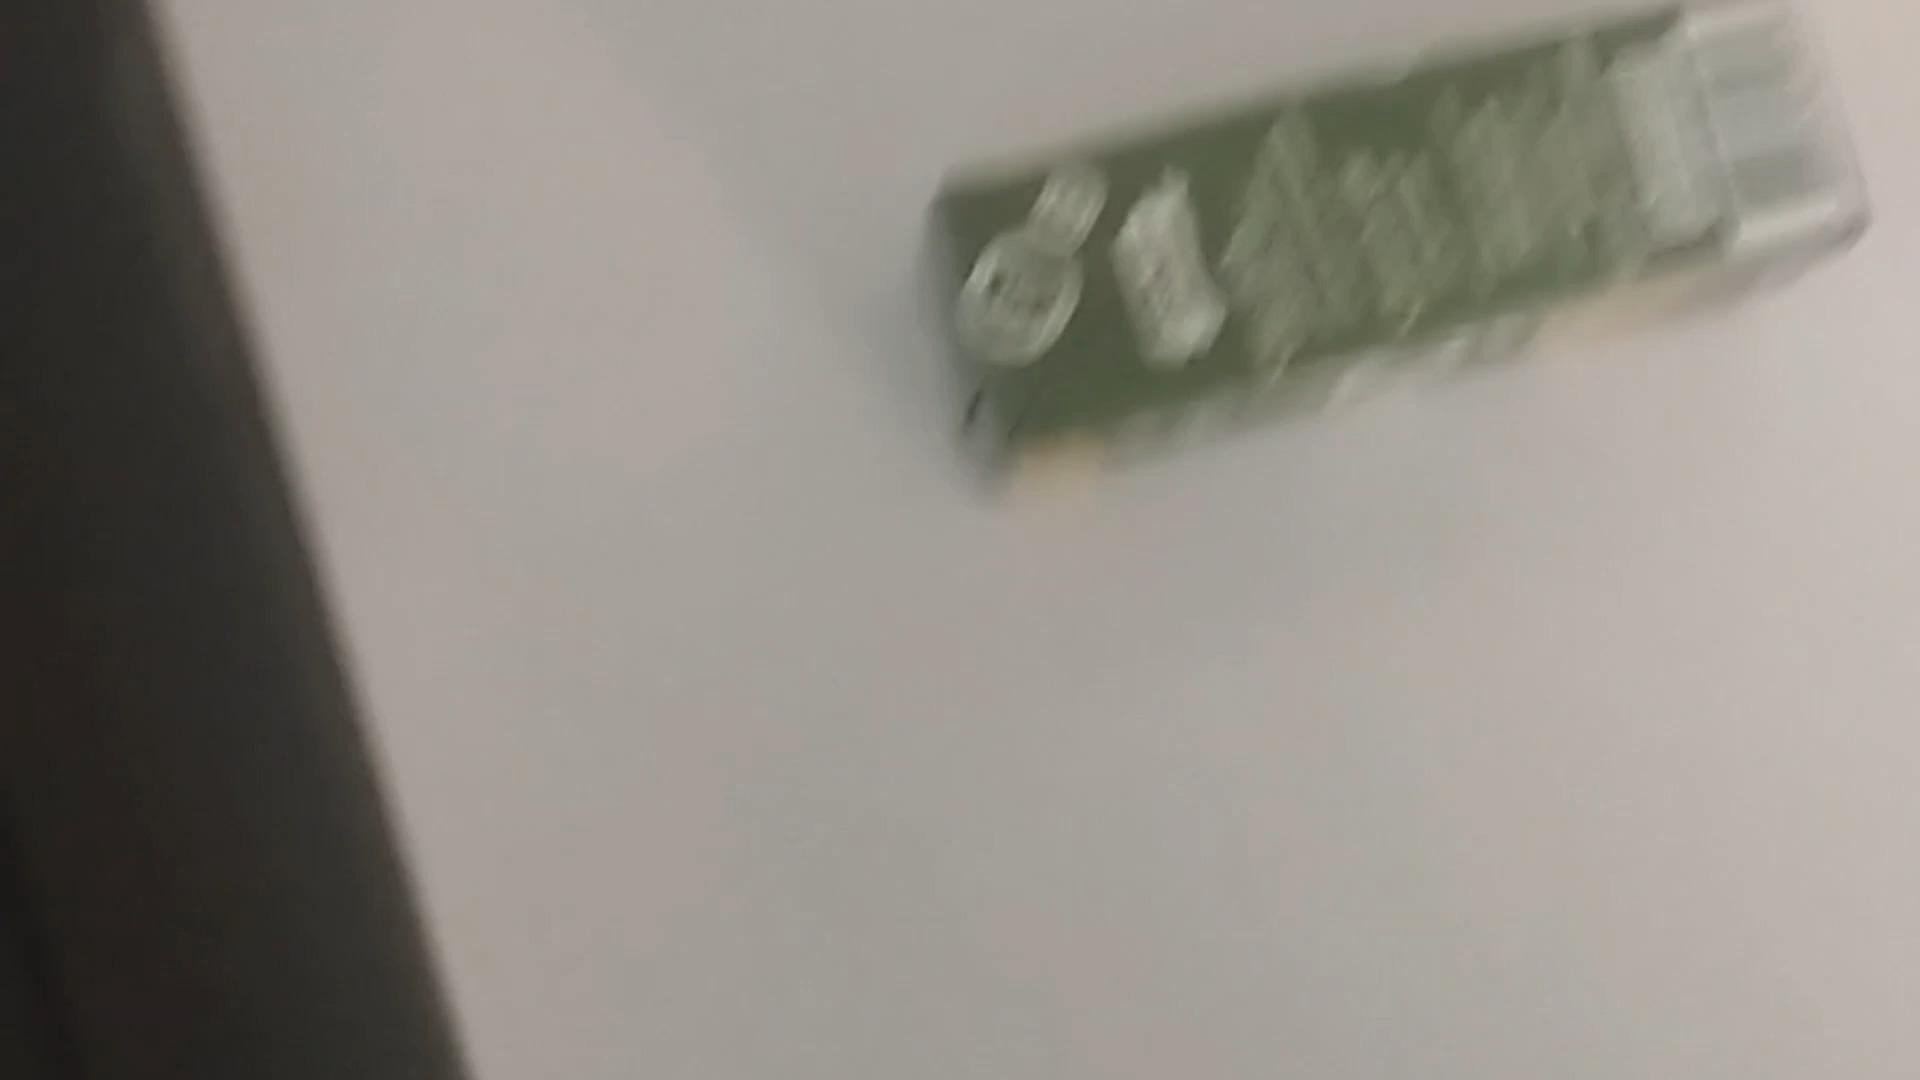coco: (938, 3, 1867, 508)
